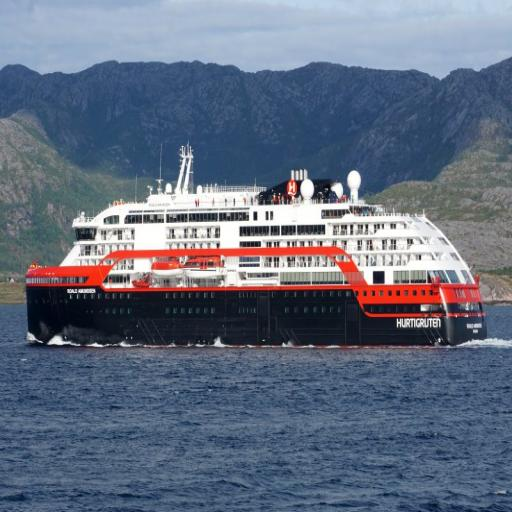cruises: (24, 141, 491, 355)
